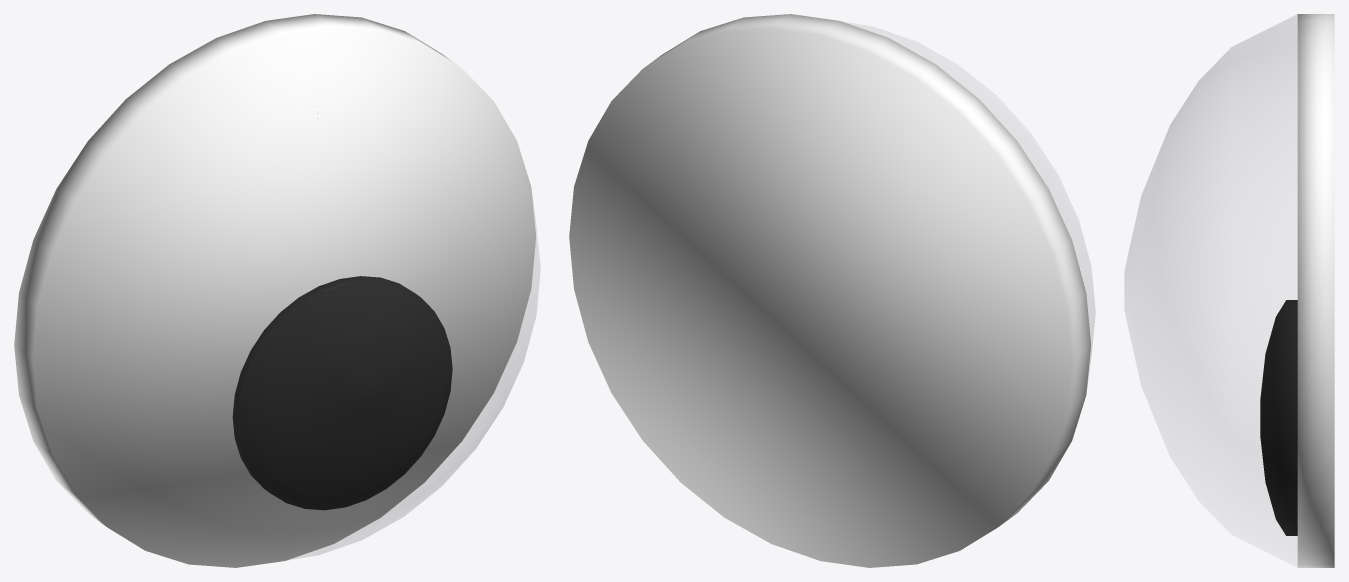
The model's file is Monster Mash - Eye 26.fbx.
3 views of the same model, side by side, from view 1: azimuth 30°, elevation 25°; view 2: azimuth 150°, elevation 25°; view 3: azimuth 270°, elevation 25° (orthographic). The views are drawn at different scales.
Parts seen in each view (by area): view 1: Googly Eye Plastic Dome, Googly Eye Base, Googly Eye Pupil; view 2: Googly Eye Base, Googly Eye Plastic Dome; view 3: Googly Eye Plastic Dome, Googly Eye Base, Googly Eye Pupil.
Boxes of the visible parts, x1,y1,x2,y2 form: Googly Eye Plastic Dome: [34, 29, 540, 567]; Googly Eye Base: [14, 14, 535, 567]; Googly Eye Pupil: [232, 276, 452, 510]; Googly Eye Base: [569, 14, 1090, 567]; Googly Eye Plastic Dome: [844, 22, 1095, 383]; Googly Eye Plastic Dome: [1124, 14, 1297, 567]; Googly Eye Base: [1297, 14, 1334, 567]; Googly Eye Pupil: [1260, 300, 1297, 535].
Bounding box in the file's own units: 200 × 200 × 75.97.
2 materials, 1 textured.
